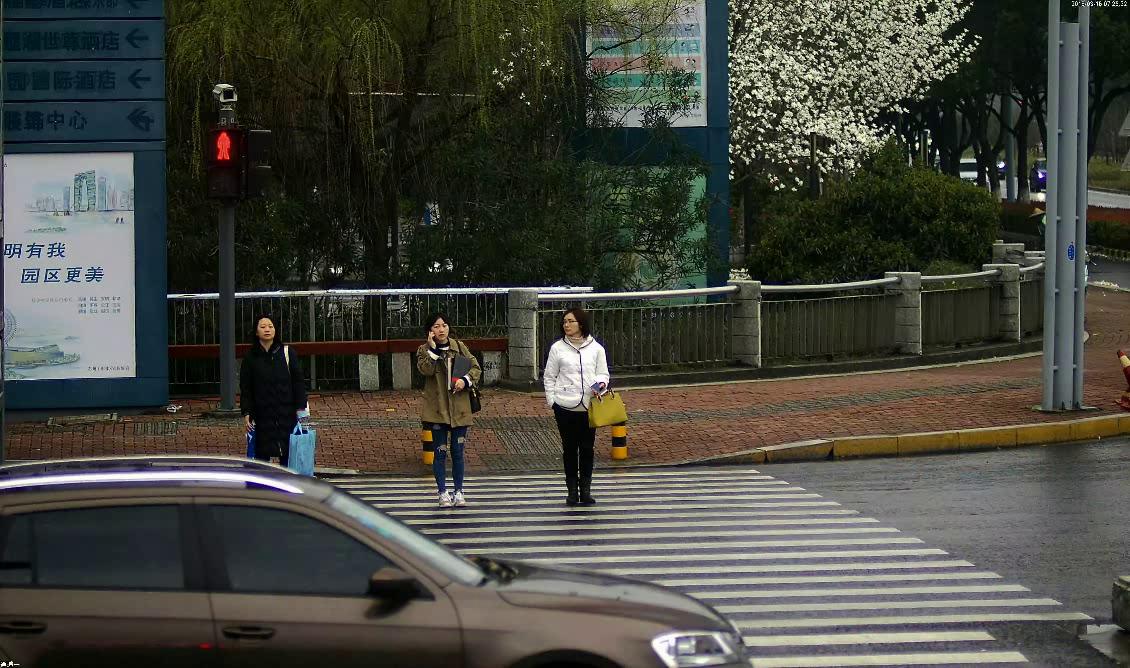person: (539, 304, 633, 510), (413, 307, 485, 514), (237, 311, 323, 481)
